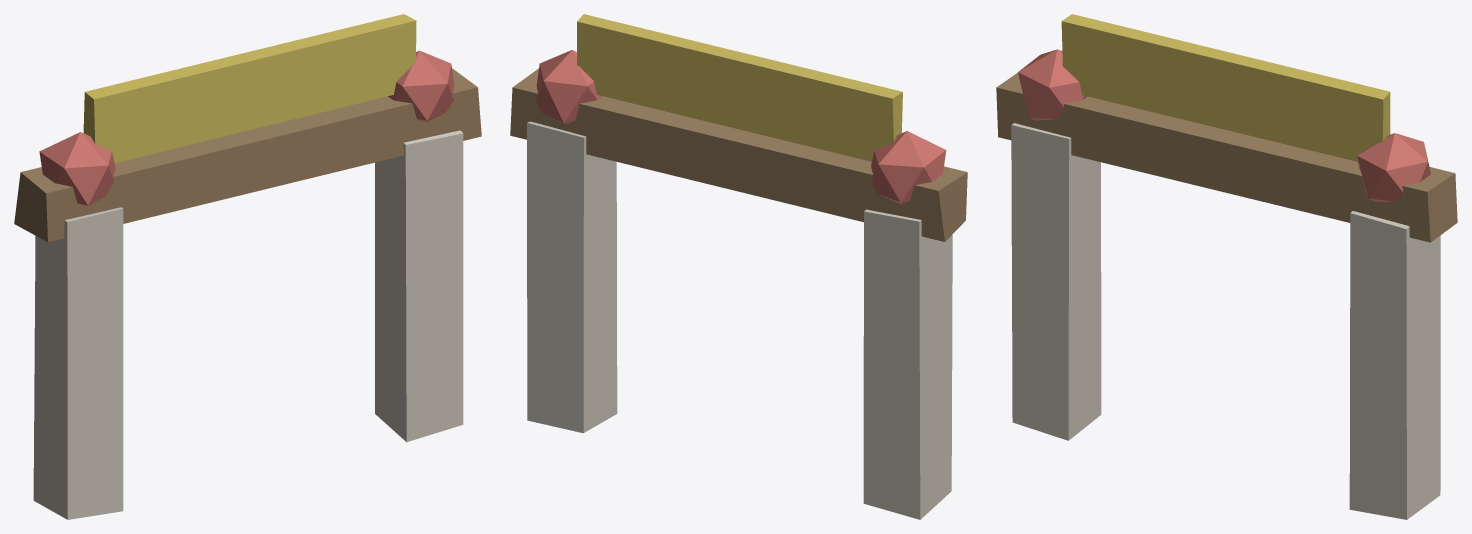
The model's file is entrancegate.fbx.
3 renders of one model, left to right at view 1: azimuth 30°, elevation 25°; view 2: azimuth 150°, elevation 25°; view 3: azimuth 330°, elevation 25°, orthographic.
Parts seen in each view (by area): view 1: EntranceGate; view 2: EntranceGate; view 3: EntranceGate.
Part boxes in pixels (left/top/right/bottom): EntranceGate: left=14, top=14, right=481, bottom=519; EntranceGate: left=510, top=14, right=967, bottom=519; EntranceGate: left=996, top=14, right=1457, bottom=519.
Bounding box in the file's own units: 4.67 × 4.14 × 0.6999.
